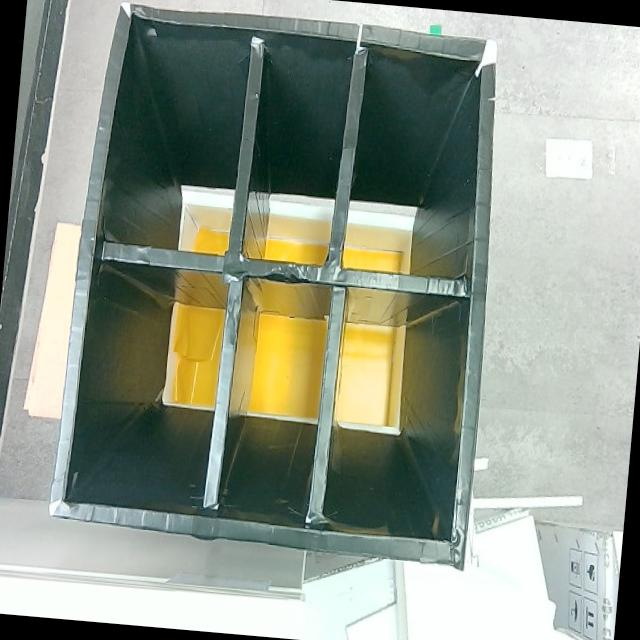box: (46, 0, 512, 567)
